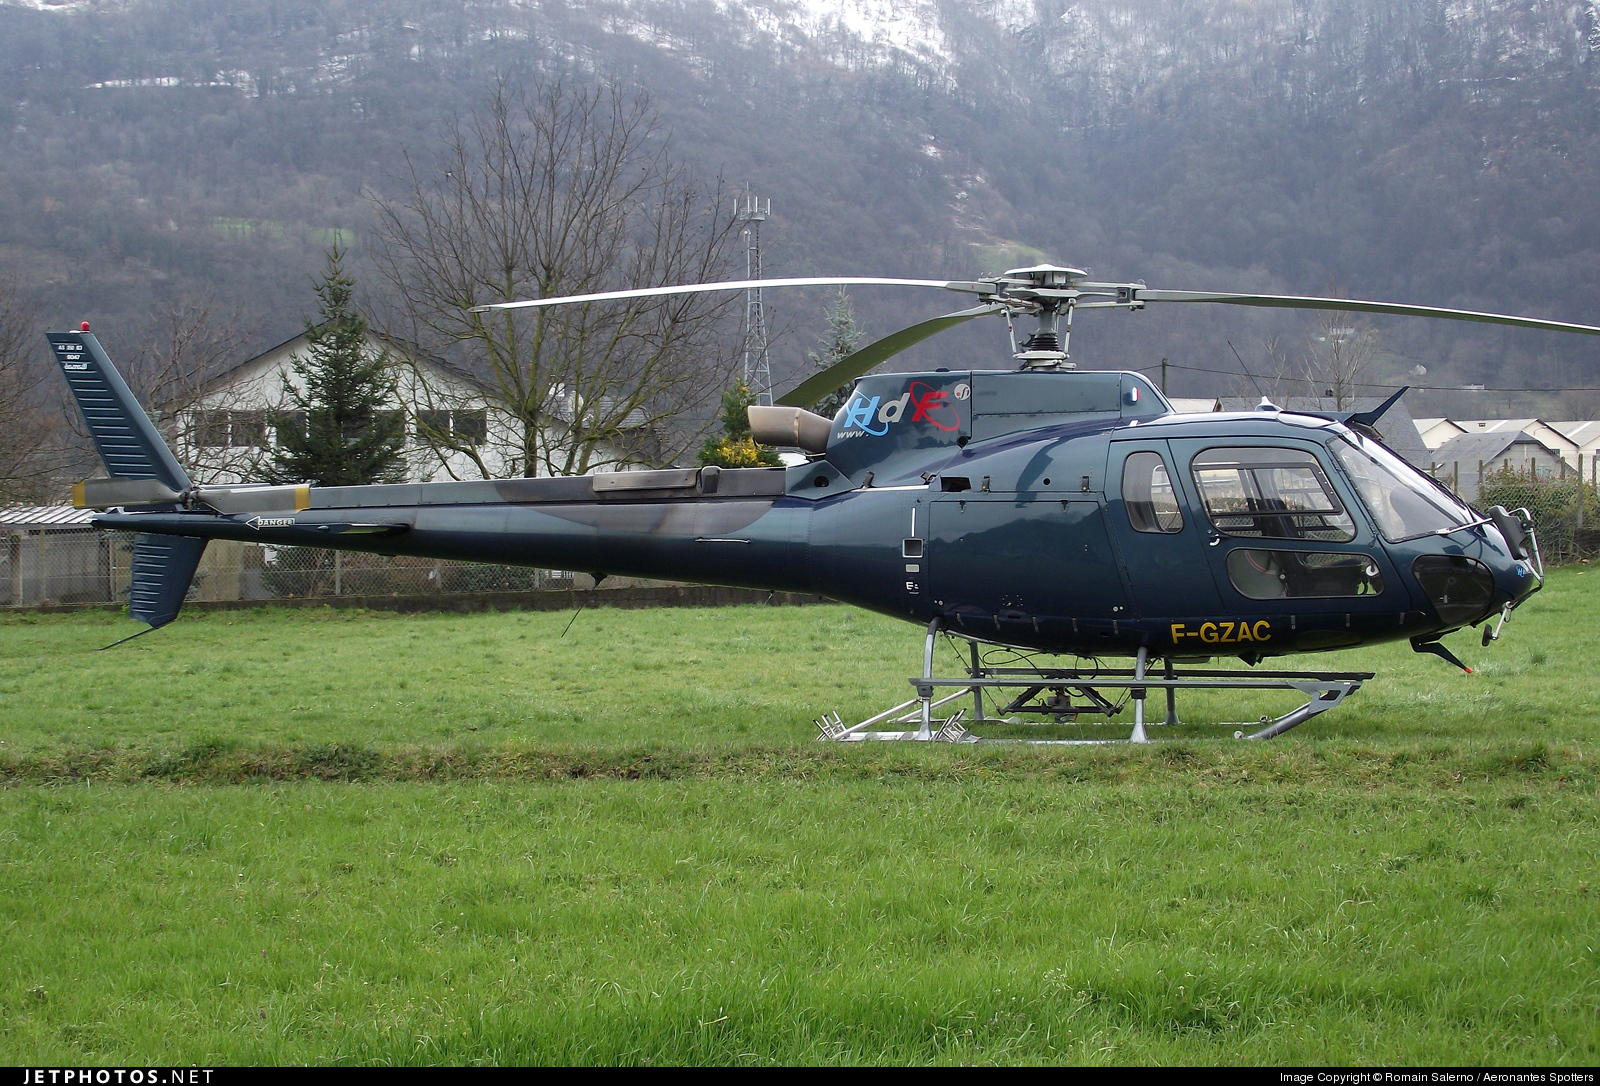number: (1165, 617, 1278, 650)
